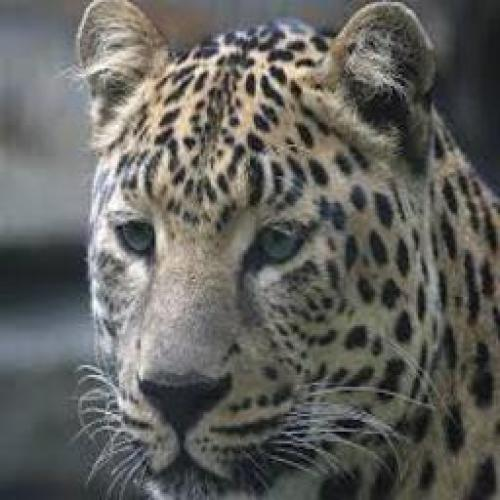amur_leopard-endangered: (72, 0, 500, 500)
